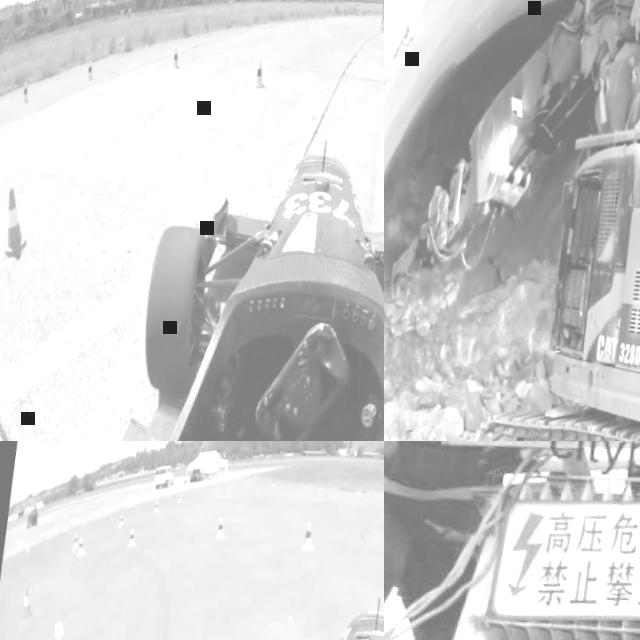machinery: (384, 0, 640, 441)
no_vest: (384, 441, 534, 522)
person: (384, 441, 570, 640), (572, 207, 624, 339), (378, 0, 384, 32)
safety_cone: (0, 182, 33, 270), (46, 608, 75, 640), (251, 61, 267, 97), (19, 588, 35, 622), (301, 521, 317, 555), (18, 79, 34, 111), (168, 46, 182, 76), (214, 515, 228, 543), (84, 58, 96, 86), (126, 527, 138, 549), (75, 536, 85, 558), (71, 532, 79, 550), (152, 501, 160, 514), (117, 514, 124, 528), (176, 490, 182, 502), (17, 536, 22, 550), (14, 538, 18, 552), (2, 544, 5, 558)
vehicle: (86, 111, 384, 441), (140, 571, 384, 640), (153, 463, 174, 491)
vest: (600, 231, 616, 261)
